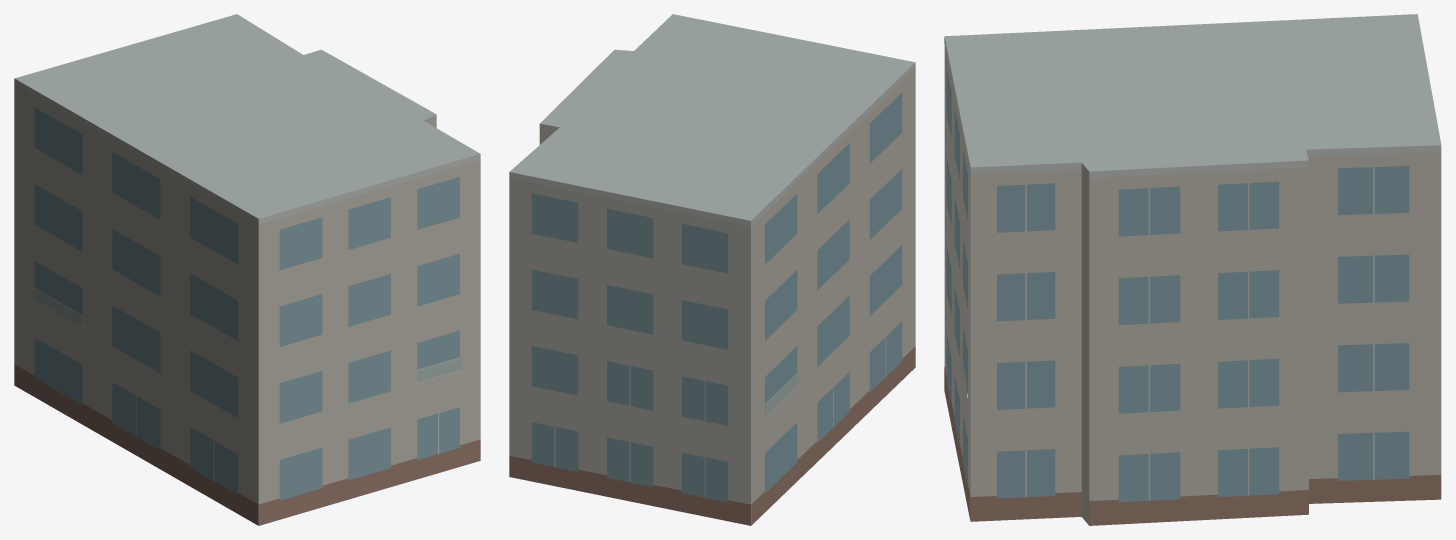
Rendered from survey-upis-32780423.glb.
The picture shows the model from 3 angles, left to right: view 1: azimuth 30°, elevation 25°; view 2: azimuth 150°, elevation 25°; view 3: azimuth 270°, elevation 25°; orthographic projection. The views are drawn at different scales.
Parts seen in each view (by area): view 1: survey-upis-32780423.tmp; view 2: survey-upis-32780423.tmp; view 3: survey-upis-32780423.tmp.
Boxes of the visible parts, x1=… form: survey-upis-32780423.tmp: x1=14, y1=14, x2=480, y2=525; survey-upis-32780423.tmp: x1=509, y1=14, x2=915, y2=525; survey-upis-32780423.tmp: x1=944, y1=14, x2=1441, y2=525.
Bounding box in the file's own units: 12.22 × 12.8 × 16.28.
